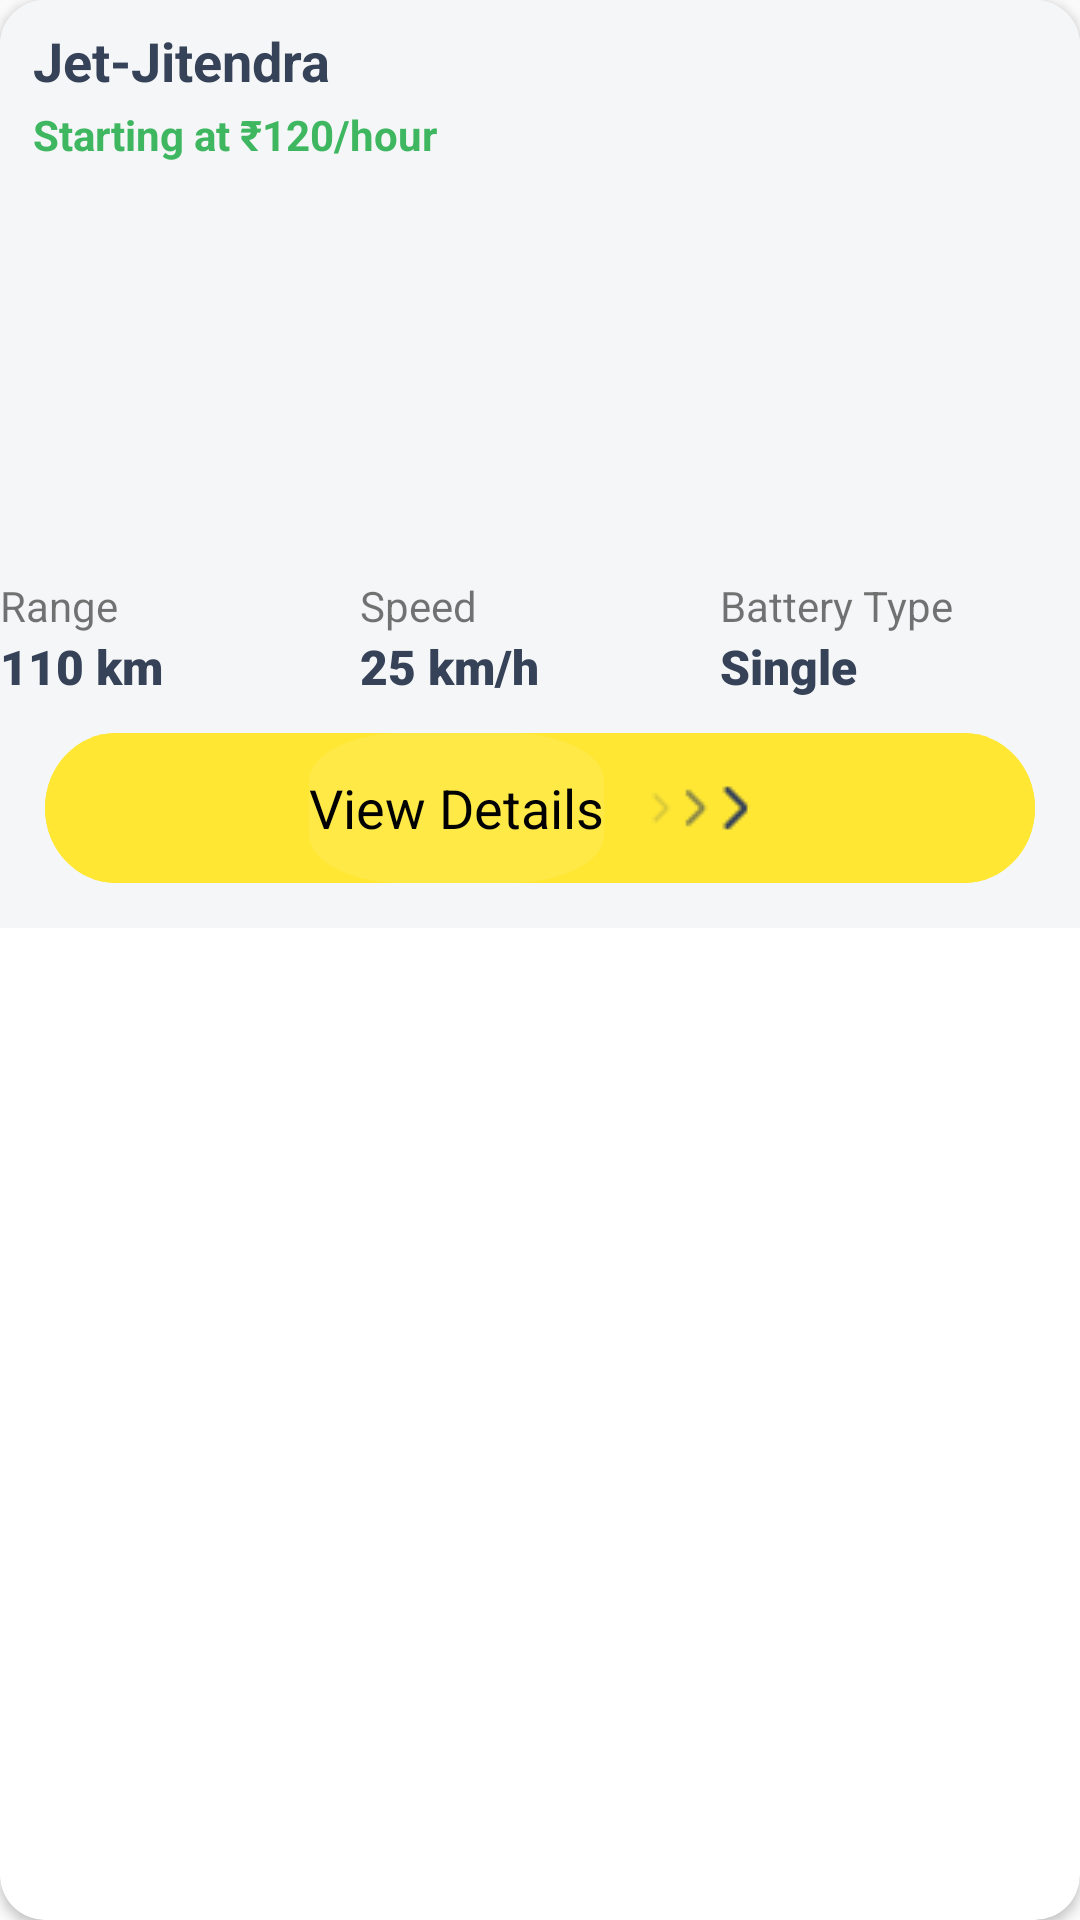

Screen size 1080w x 1920h. Icon name, then its box in pixels as (x1, y1, x2, y2):
right arrow: (722, 786, 748, 830), (685, 789, 706, 827), (655, 795, 667, 821)
